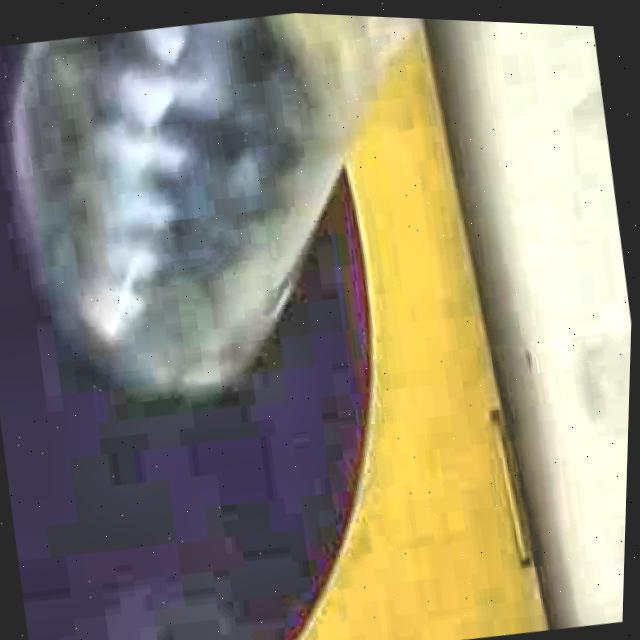plastic: (12, 10, 411, 385)
